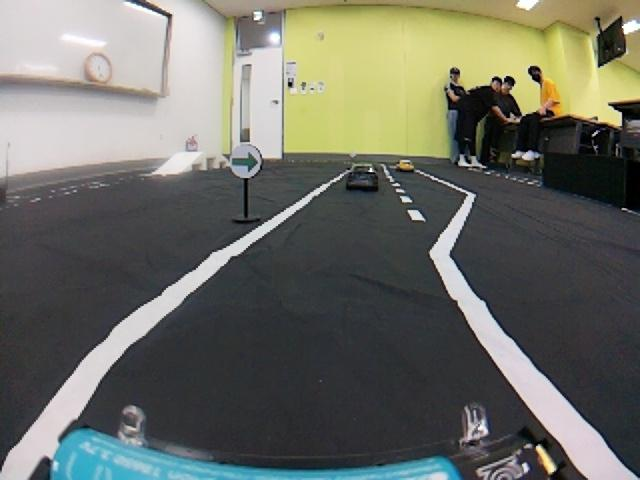car: (348, 167, 381, 193), (396, 157, 417, 173)
sign_right: (227, 142, 264, 182)
straight: (1, 169, 640, 480)
